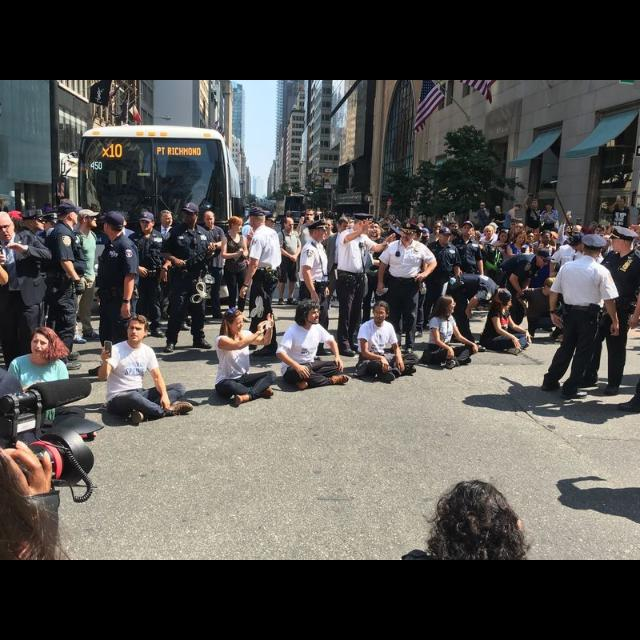head: (30, 328, 56, 359), (126, 314, 150, 344), (298, 300, 322, 326), (24, 210, 48, 232), (22, 212, 48, 232), (57, 203, 79, 225), (103, 214, 125, 236), (611, 230, 633, 252), (225, 310, 245, 334), (584, 238, 604, 260), (310, 222, 330, 242), (373, 302, 391, 324), (78, 210, 100, 228), (438, 296, 456, 316), (249, 208, 267, 228), (183, 203, 200, 224), (400, 227, 418, 245), (140, 213, 156, 233), (493, 288, 512, 304), (158, 210, 174, 228), (228, 216, 244, 234), (355, 216, 371, 232), (536, 252, 552, 268), (545, 277, 559, 295), (573, 235, 587, 253), (438, 228, 452, 245), (498, 291, 512, 307), (338, 217, 350, 235), (204, 212, 216, 228), (462, 222, 474, 238), (283, 218, 295, 232), (322, 220, 334, 234), (572, 225, 584, 239), (305, 210, 317, 222), (618, 197, 628, 207), (532, 199, 540, 209), (546, 203, 554, 213), (516, 204, 524, 212), (480, 202, 486, 210), (495, 207, 501, 213)
person: (539, 232, 621, 400), (4, 326, 98, 448), (96, 313, 196, 427), (0, 208, 54, 402), (374, 220, 442, 356), (334, 212, 396, 360), (160, 202, 220, 352), (88, 210, 140, 378), (46, 200, 88, 372), (547, 222, 603, 350), (276, 298, 352, 392), (12, 206, 50, 384), (240, 206, 284, 358), (432, 272, 512, 354), (558, 232, 608, 361), (126, 207, 174, 341), (214, 307, 278, 407), (354, 300, 418, 384), (295, 218, 331, 364), (66, 207, 104, 345), (498, 247, 558, 333), (417, 226, 463, 334), (148, 207, 186, 325), (323, 213, 361, 331), (193, 209, 231, 323), (426, 294, 480, 372), (451, 219, 487, 329), (218, 214, 252, 326), (516, 276, 570, 344), (481, 287, 532, 357), (296, 206, 324, 304), (274, 217, 304, 307), (316, 217, 339, 311), (609, 197, 633, 261), (500, 202, 528, 250), (537, 200, 561, 256), (526, 190, 546, 254), (487, 203, 508, 249), (476, 200, 492, 248)
